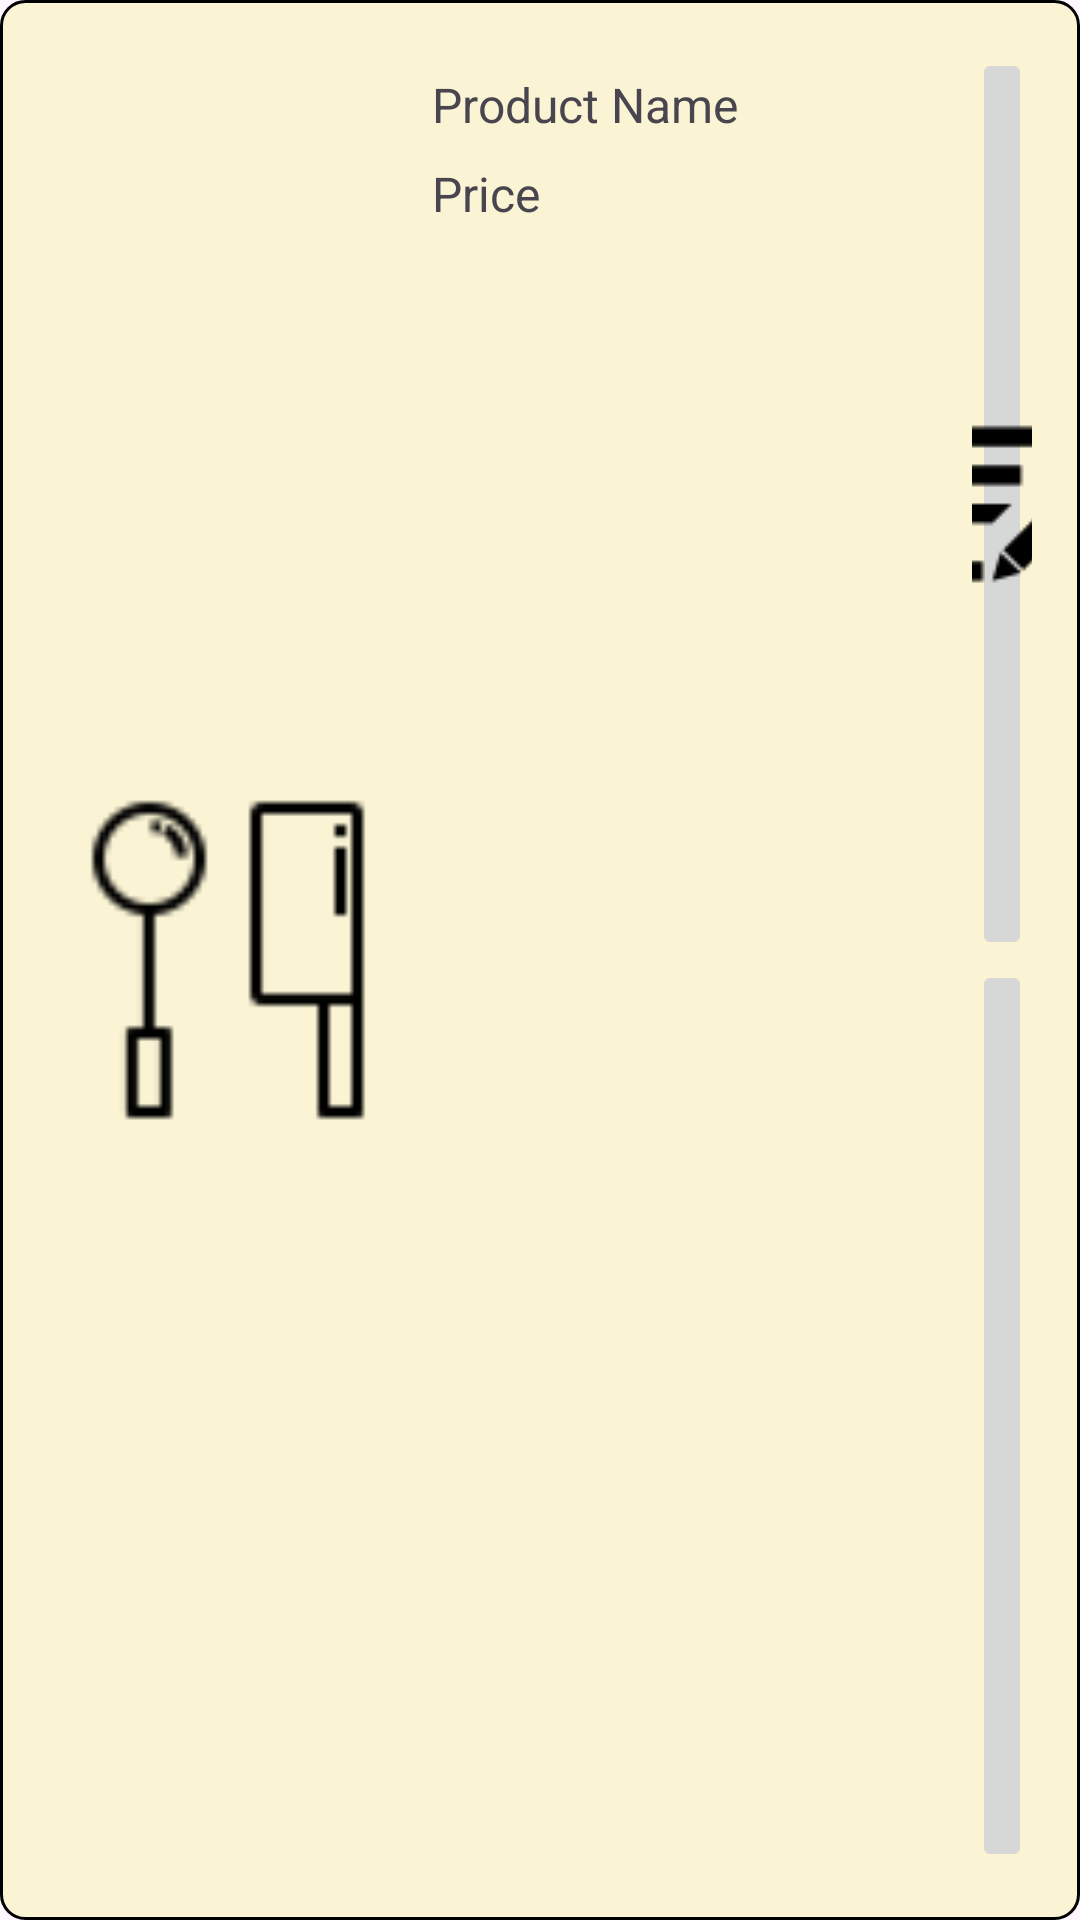

Point at icon controls on the screen. Image size 1080 × 1920, points as (x,y).
kitchen: (228,960)
